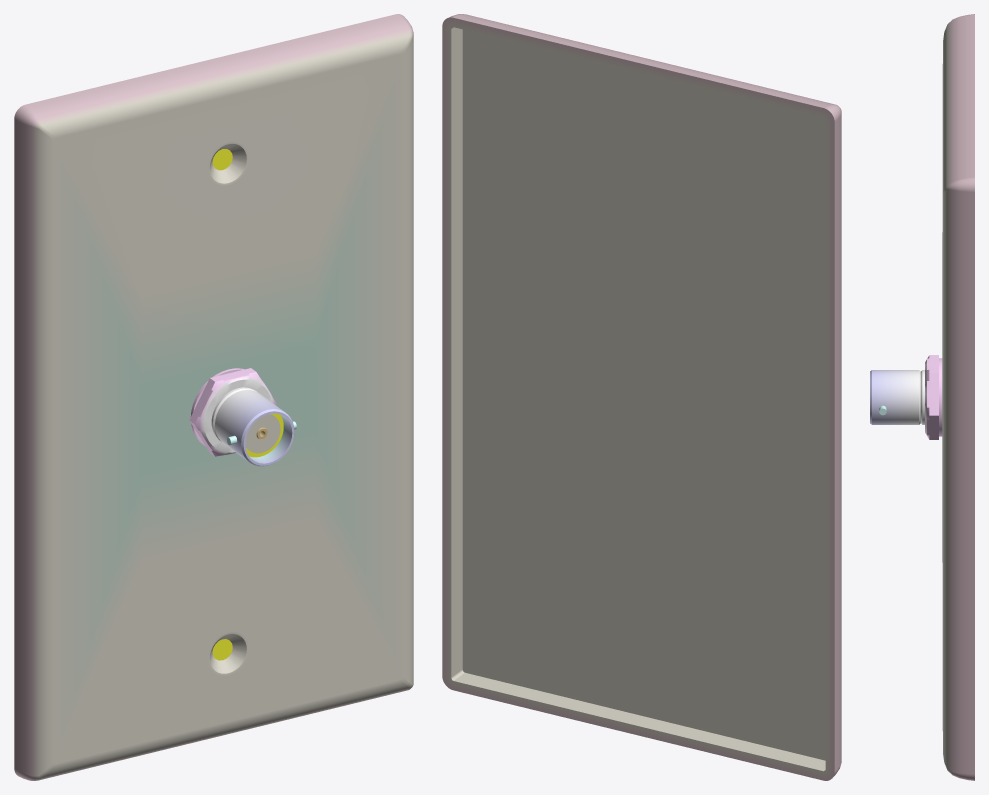
File: Kit_JackBNC.fbx
3 views of the same model, side by side, from view 1: azimuth 30°, elevation 25°; view 2: azimuth 150°, elevation 25°; view 3: azimuth 270°, elevation 25° (orthographic). The views are drawn at different scales.
Visible parts, largest first — view 1: Kit_JackBNC_LOD0; view 2: Kit_JackBNC_LOD0; view 3: Kit_JackBNC_LOD0.
Part boxes in pixels (x1,y1,x2,y2): Kit_JackBNC_LOD0: (14, 14, 413, 780); Kit_JackBNC_LOD0: (442, 14, 841, 780); Kit_JackBNC_LOD0: (870, 14, 974, 780).
Size of what is drawn, in the model's own units: 0.0698 by 0.1143 by 0.018.
